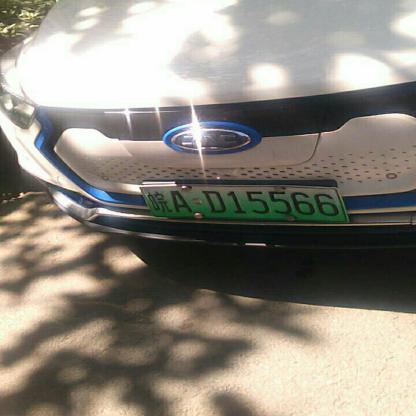lp: (142, 187, 346, 220)
